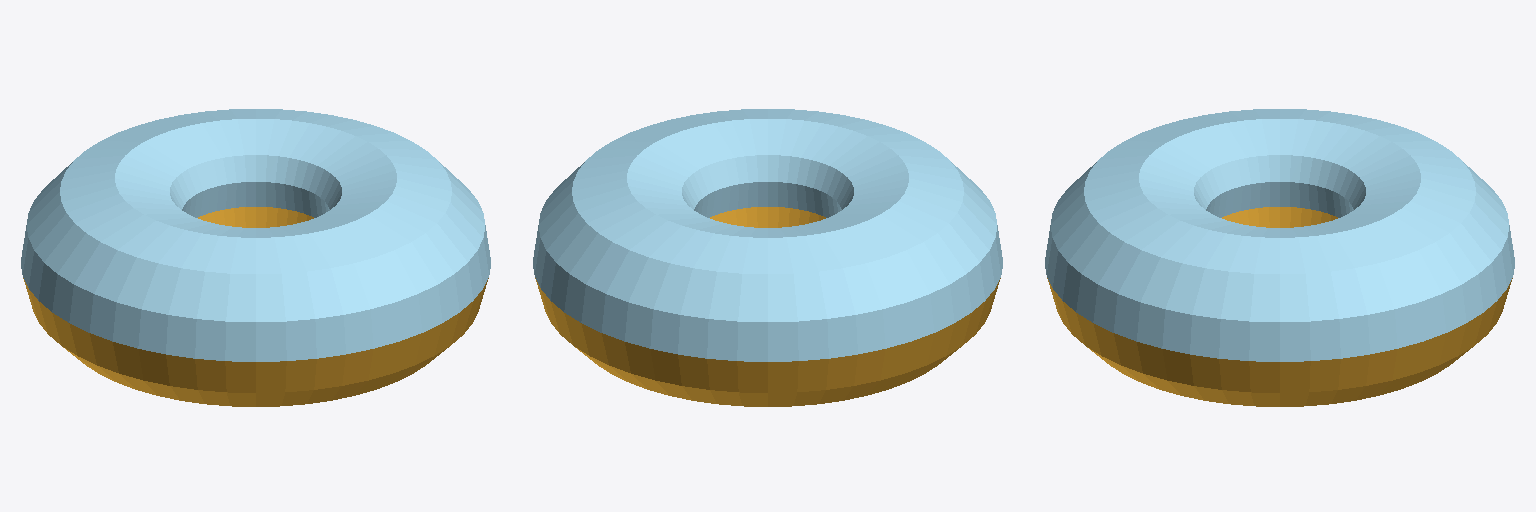
3 renders of one model, left to right at view 1: azimuth 30°, elevation 25°; view 2: azimuth 150°, elevation 25°; view 3: azimuth 270°, elevation 25°, orthographic.
Visible parts, largest first — view 1: Donut; view 2: Donut; view 3: Donut.
Boxes of the visible parts, x1=… form: Donut: x1=21, y1=109, x2=490, y2=406; Donut: x1=533, y1=109, x2=1002, y2=406; Donut: x1=1045, y1=109, x2=1514, y2=406.
Size of the model in its own units: 1.5 by 0.5469 by 1.5.
Materials: 1 (1 with a texture image).